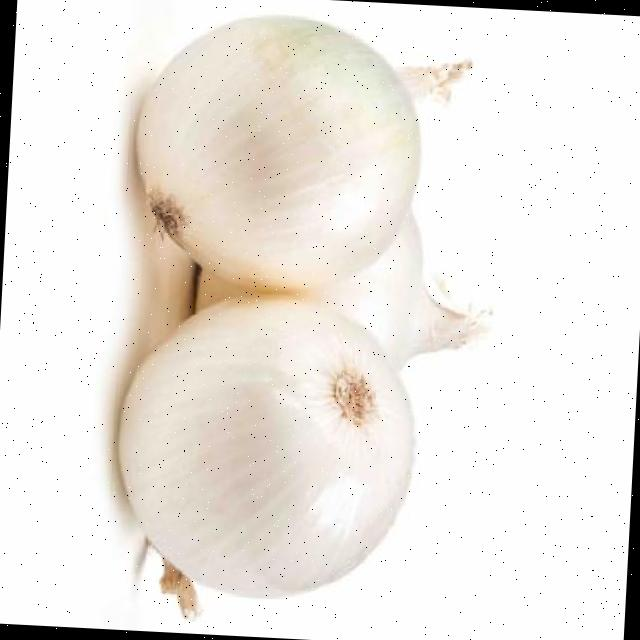Onion: (117, 301, 413, 598), (135, 17, 417, 289), (288, 214, 483, 372)
